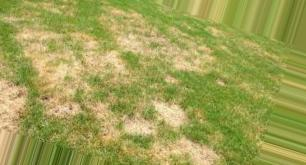patch: (49, 100, 126, 130), (26, 35, 60, 88), (159, 41, 203, 68), (1, 83, 27, 126), (156, 144, 206, 162), (89, 49, 121, 76), (152, 99, 183, 123), (125, 29, 146, 56)
